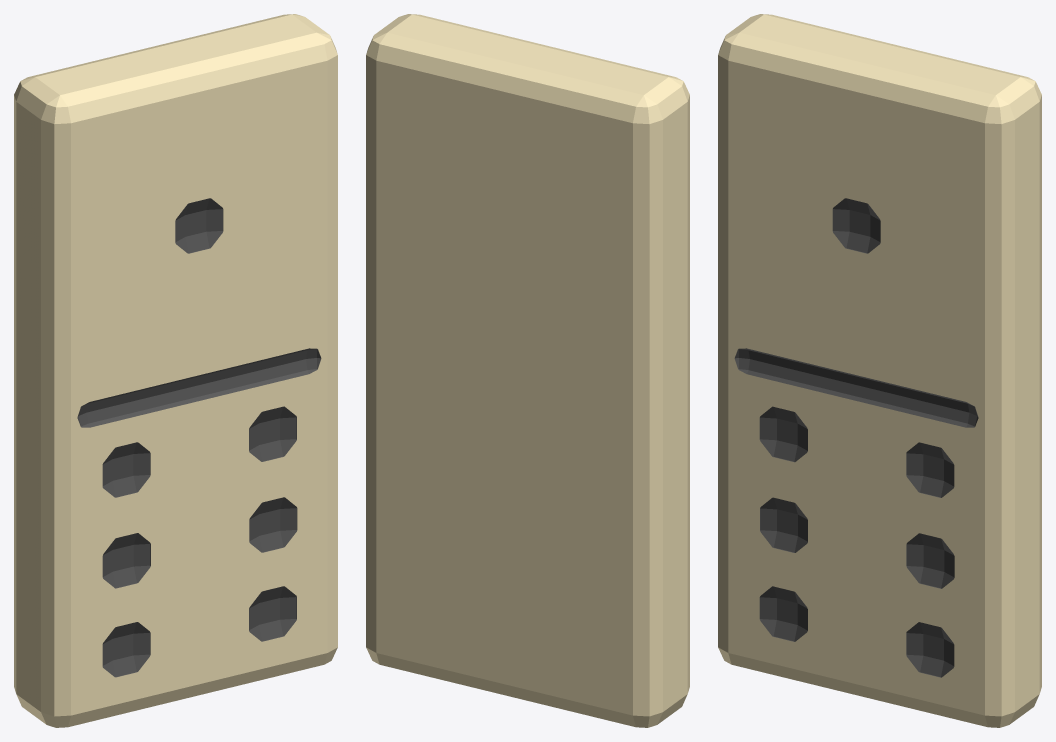
File: dominoes 1x6.fbx
3 views of the same model, side by side, from view 1: azimuth 30°, elevation 25°; view 2: azimuth 150°, elevation 25°; view 3: azimuth 330°, elevation 25° (orthographic).
Visible parts, largest first — view 1: Boole_8; view 2: Boole_8; view 3: Boole_8.
Part boxes in pixels (box(x1,y1,x2,y2)): Boole_8: box(14, 14, 337, 727); Boole_8: box(366, 14, 689, 727); Boole_8: box(718, 14, 1041, 727).
Bounding box in the file's own units: 200 × 410 × 55.02.
